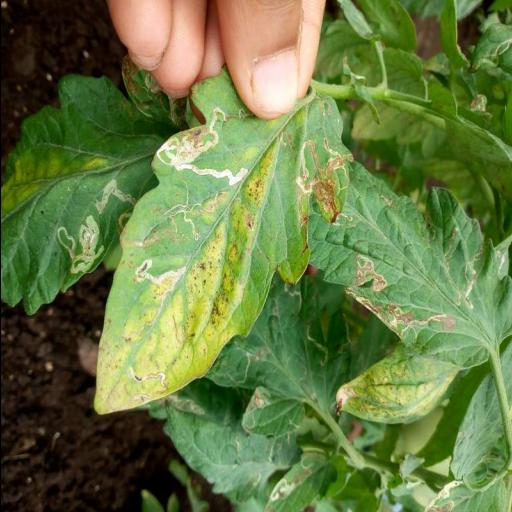Leaf Miner: (93, 64, 347, 416), (0, 65, 178, 321), (305, 166, 512, 361)
